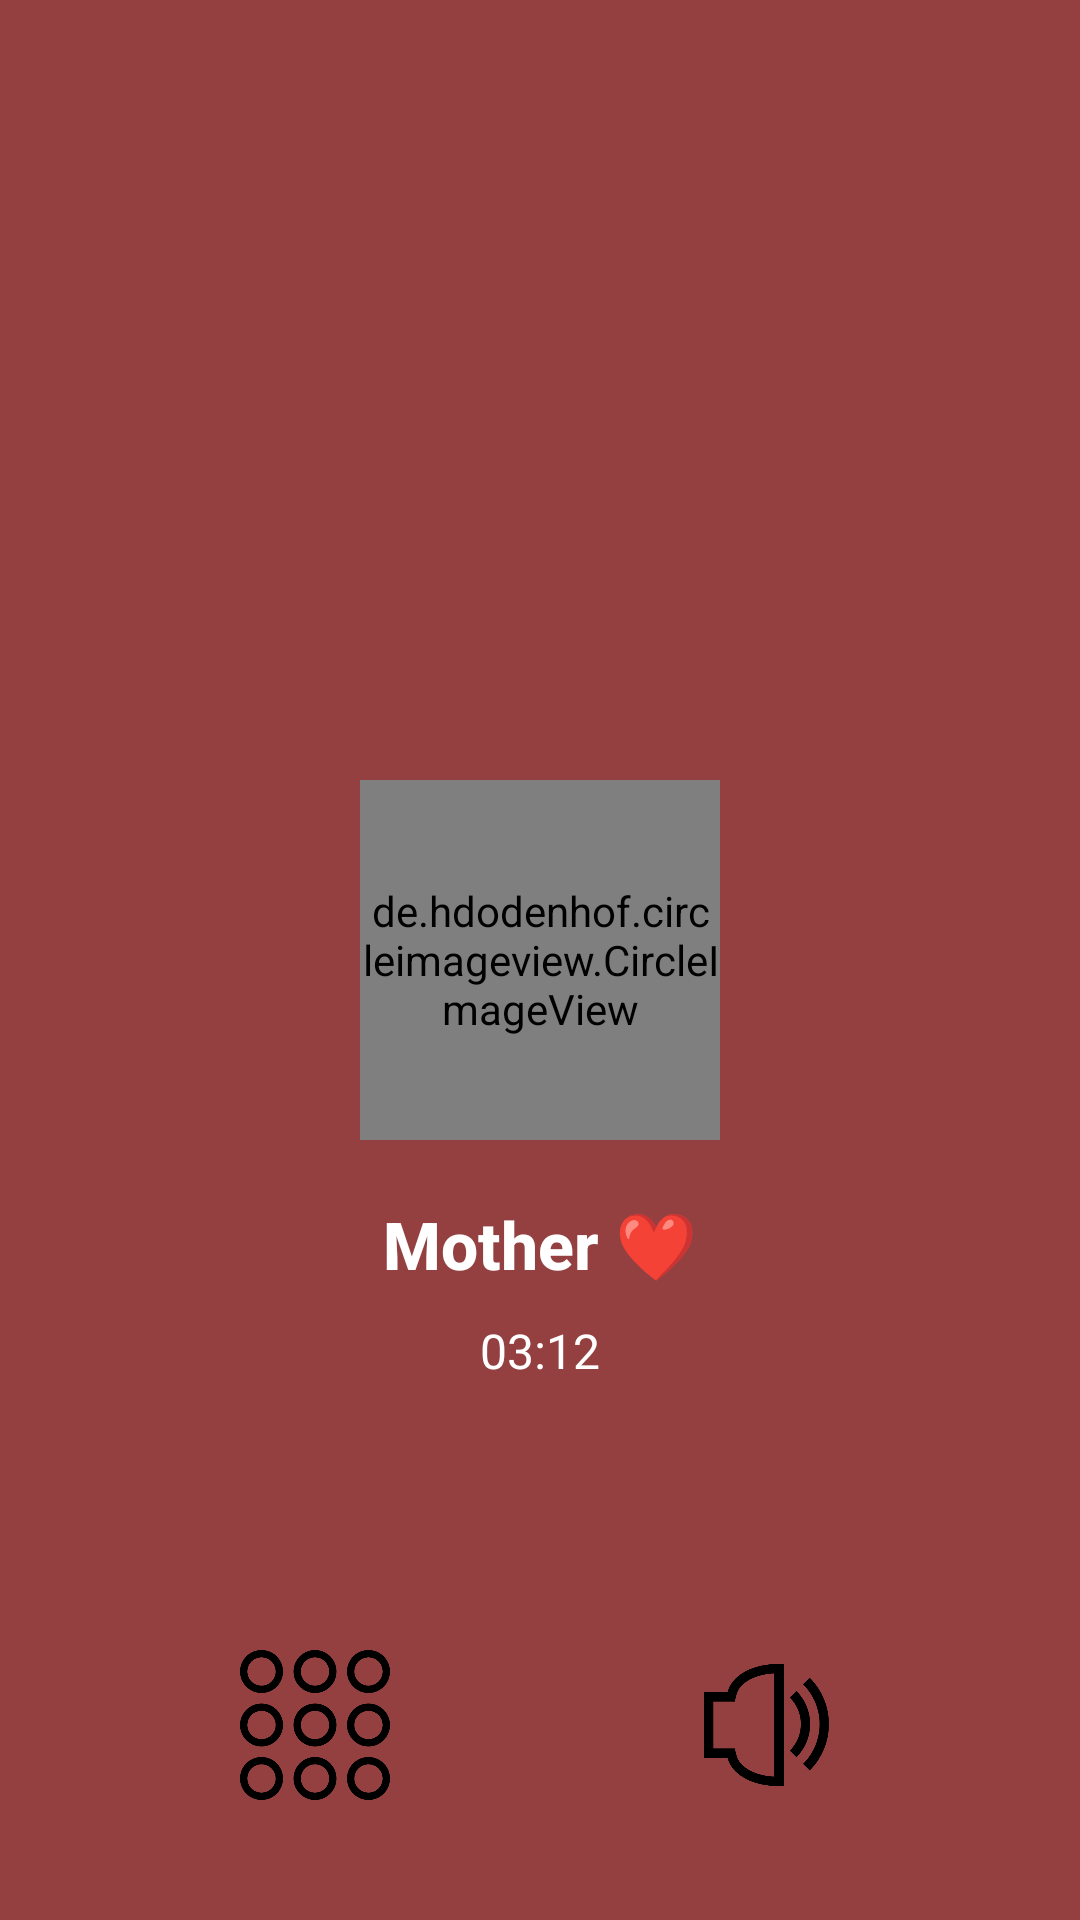

Icon click points for this 1080px×1920px phone screenshot, format [x,y]:
Speaker: [766,1725]
